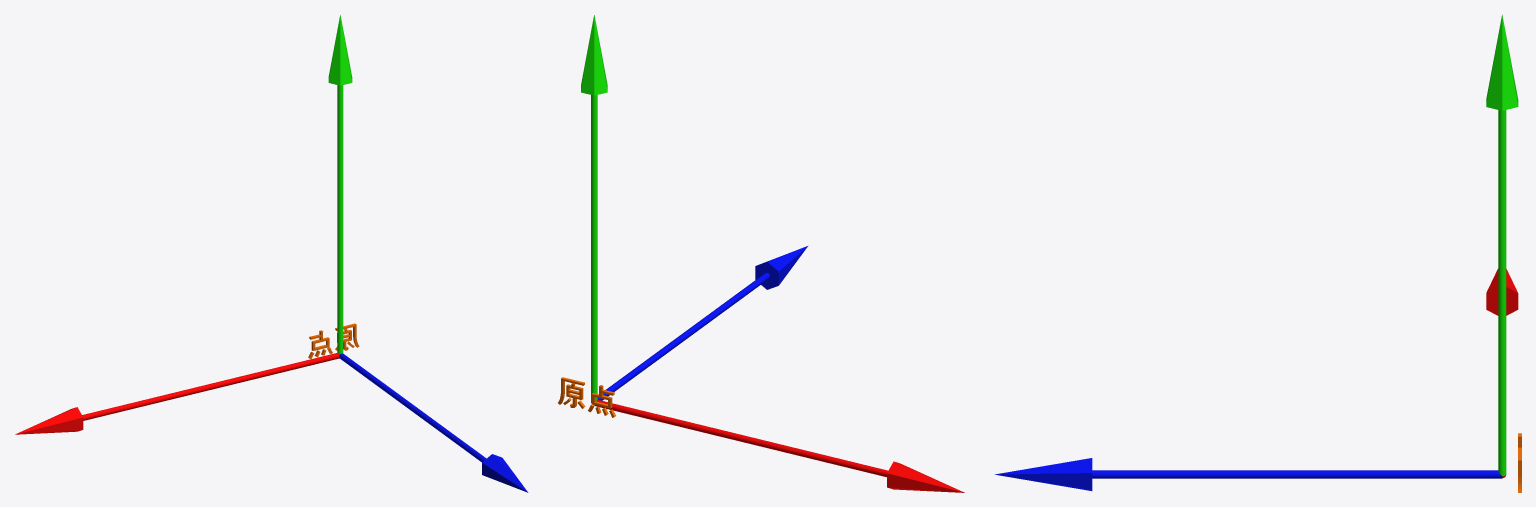
The model's file is Axis_Origin.FBX.
3 views of the same model, side by side, from view 1: azimuth 30°, elevation 25°; view 2: azimuth 150°, elevation 25°; view 3: azimuth 270°, elevation 25° (orthographic). The views are drawn at different scales.
Parts seen in each view (by area): view 1: Axis_Origin; view 2: Axis_Origin; view 3: Axis_Origin.
Boxes of the visible parts, x1=… form: Axis_Origin: x1=15, y1=15, x2=528, y2=492; Axis_Origin: x1=558, y1=15, x2=964, y2=492; Axis_Origin: x1=994, y1=14, x2=1521, y2=492.
Size of the model in its own units: 134 by 129 by 129.
